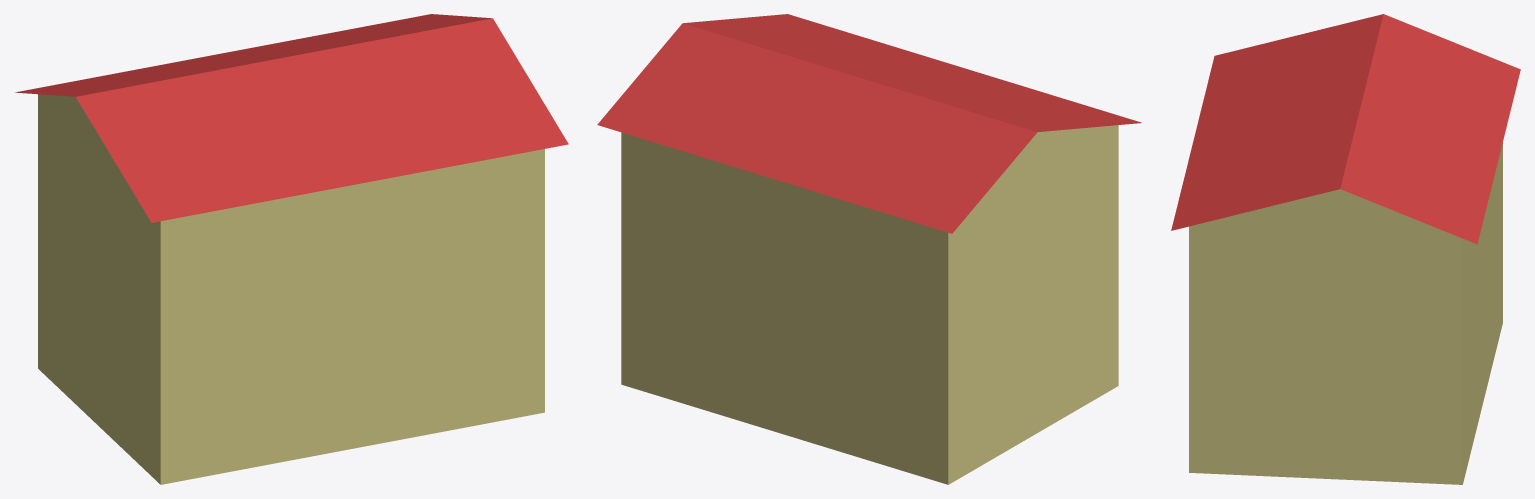
The picture shows the model from 3 angles, left to right: view 1: azimuth 30°, elevation 25°; view 2: azimuth 150°, elevation 25°; view 3: azimuth 270°, elevation 25°; orthographic projection. The views are drawn at different scales.
Size of the model in its own units: 13.6 by 10.65 by 9.99.
